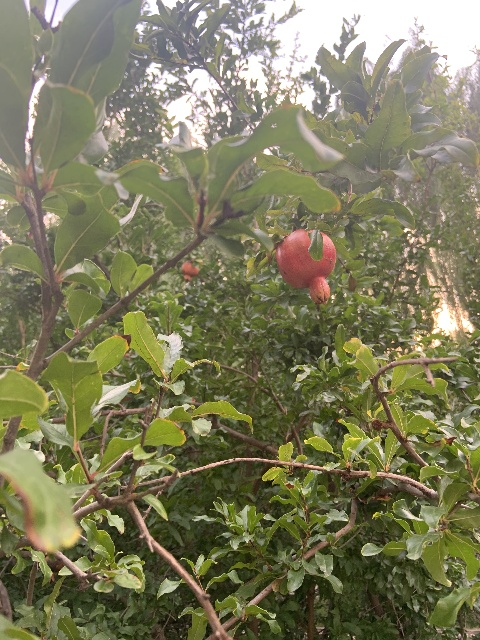ripe: (275, 228, 336, 305), (181, 260, 199, 283)
